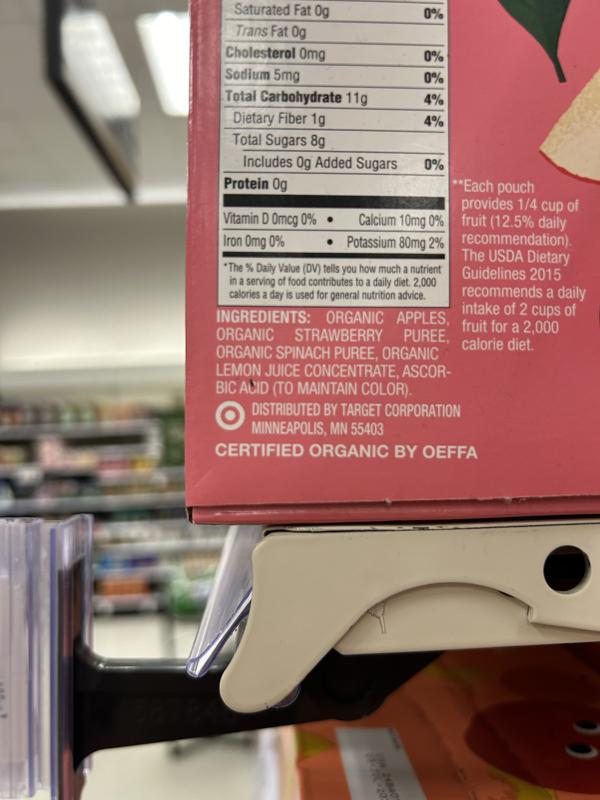ingredients: (215, 309, 451, 398)
